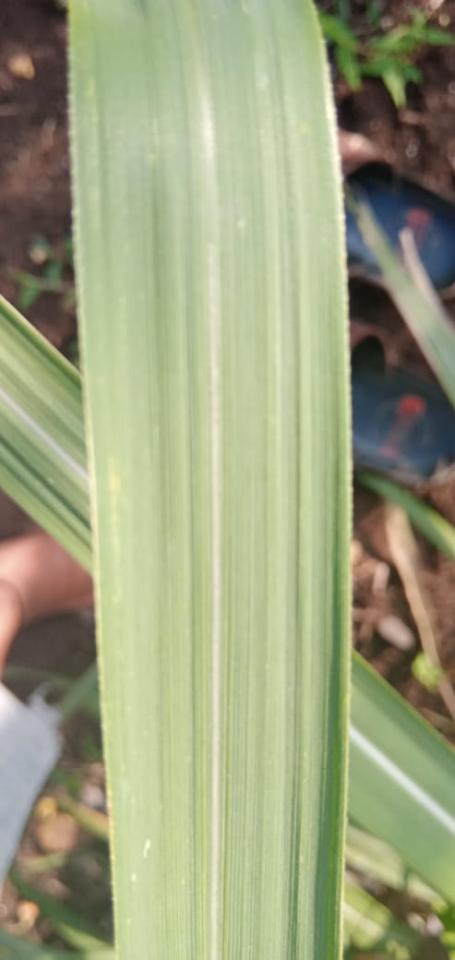Healthy: (200, 0, 352, 959), (71, 0, 214, 959), (347, 735, 454, 904), (347, 649, 454, 816), (0, 296, 91, 473), (0, 409, 91, 574)
